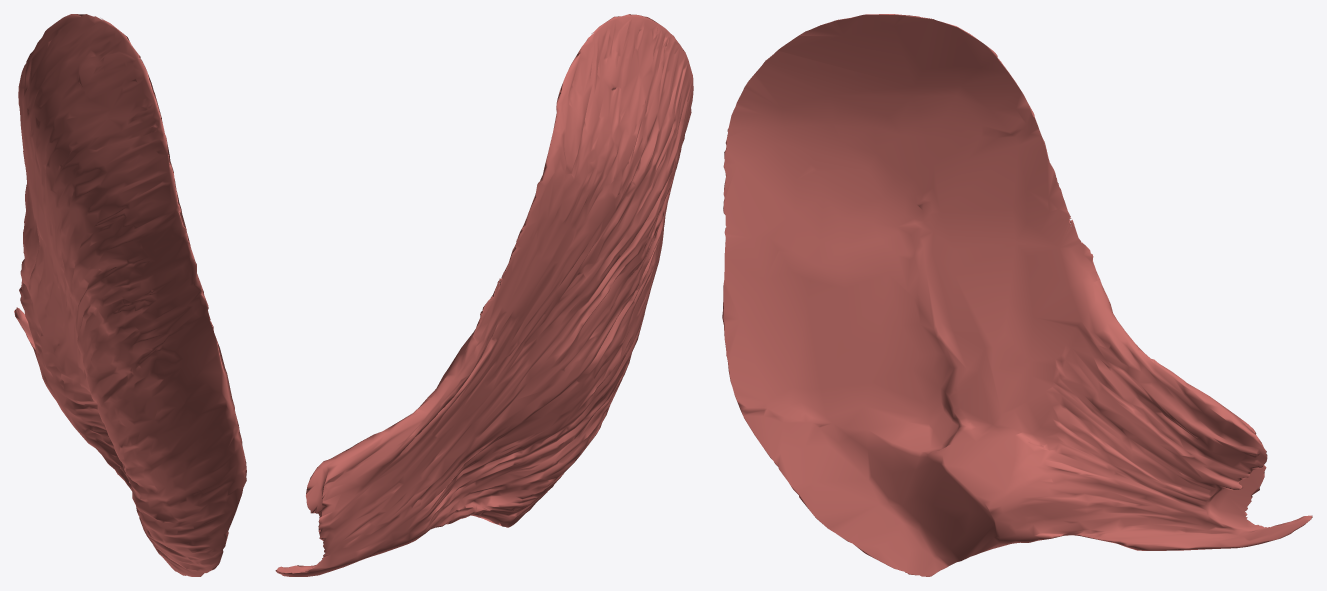
The picture shows the model from 3 angles, left to right: view 1: azimuth 30°, elevation 25°; view 2: azimuth 150°, elevation 25°; view 3: azimuth 270°, elevation 25°; orthographic projection. The views are drawn at different scales.
Parts seen in each view (by area): view 1: 右侧颞肌; view 2: 右侧颞肌; view 3: 右侧颞肌.
Part boxes in pixels (x1,y1,x2,y2): 右侧颞肌: (14,14,246,576); 右侧颞肌: (275,14,693,576); 右侧颞肌: (722,14,1312,576).
Size of the model in its own units: 0.0576 by 0.1678 by 0.1709.
